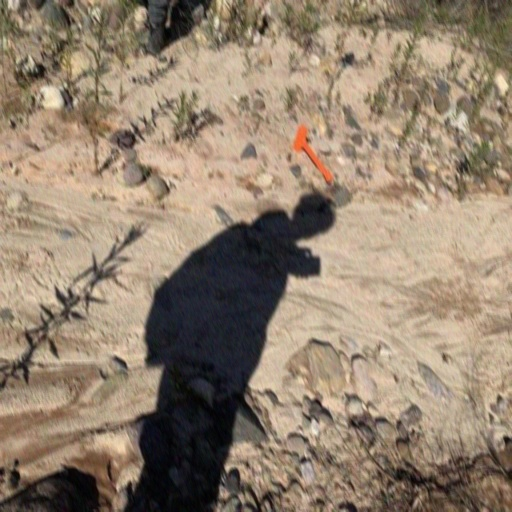mallet: (292, 124, 335, 184)
